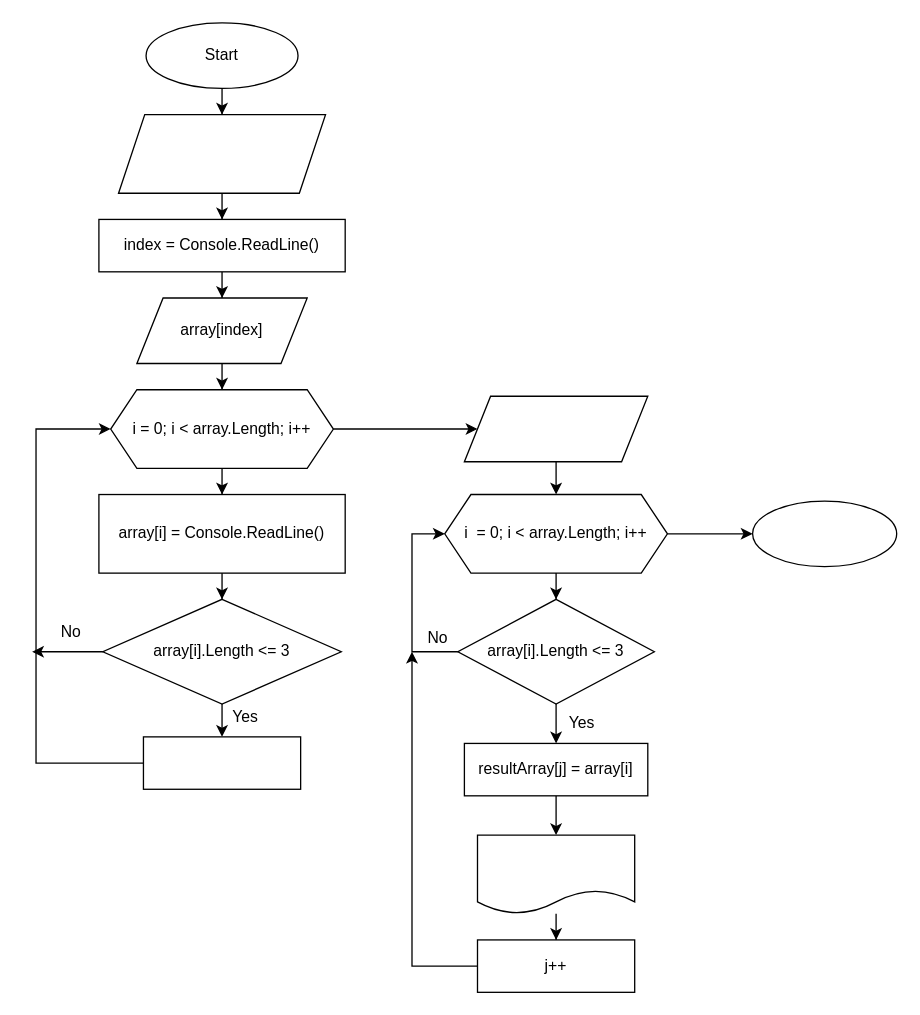
This 920x1015 diagram has some shape labels left out. The box of each missing label's shape, as (x1, y1, x2, y2) in pixels:
count++: (142, 736, 301, 789)
End: (751, 500, 897, 567)
index count = 0: (117, 113, 326, 193)
resultArray[count] j = 0: (463, 395, 648, 462)
resultArray[j]: (476, 834, 635, 914)
